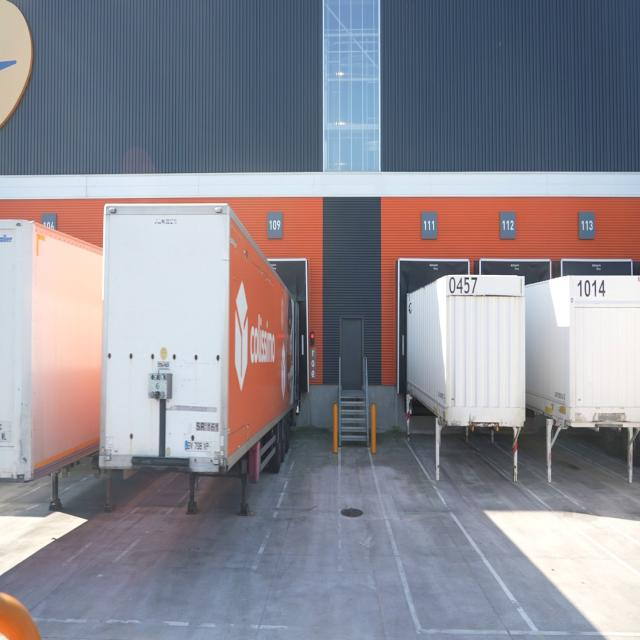Code: (574, 272, 607, 302), (448, 272, 482, 296)
